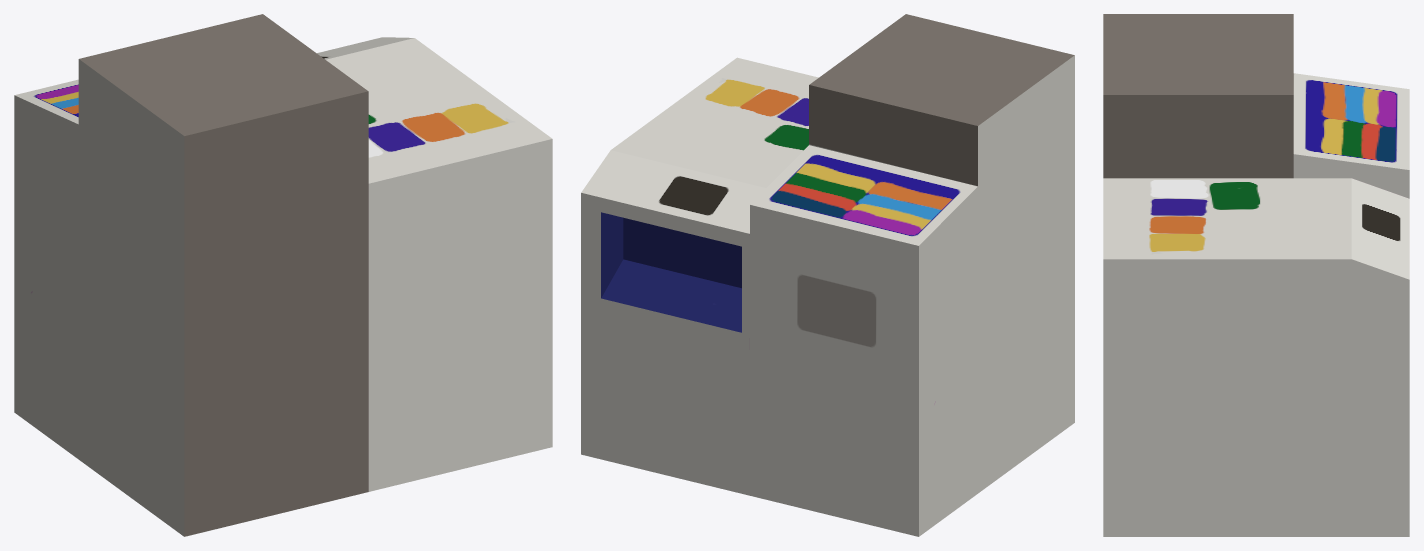
Rendered from printer.glb.
3 renders of one model, left to right at view 1: azimuth 30°, elevation 25°; view 2: azimuth 150°, elevation 25°; view 3: azimuth 270°, elevation 25°, orthographic. The views are drawn at different scales.
Parts seen in each view (by area): view 1: Cube; view 2: Cube; view 3: Cube.
Boxes of the visible parts, x1,y1,x2,y2 form: Cube: [14, 14, 552, 536]; Cube: [581, 14, 1074, 536]; Cube: [1103, 14, 1409, 536].
Bounding box in the file's own units: 1.25 × 1.3 × 1.
Materials: 1 (1 with a texture image).
